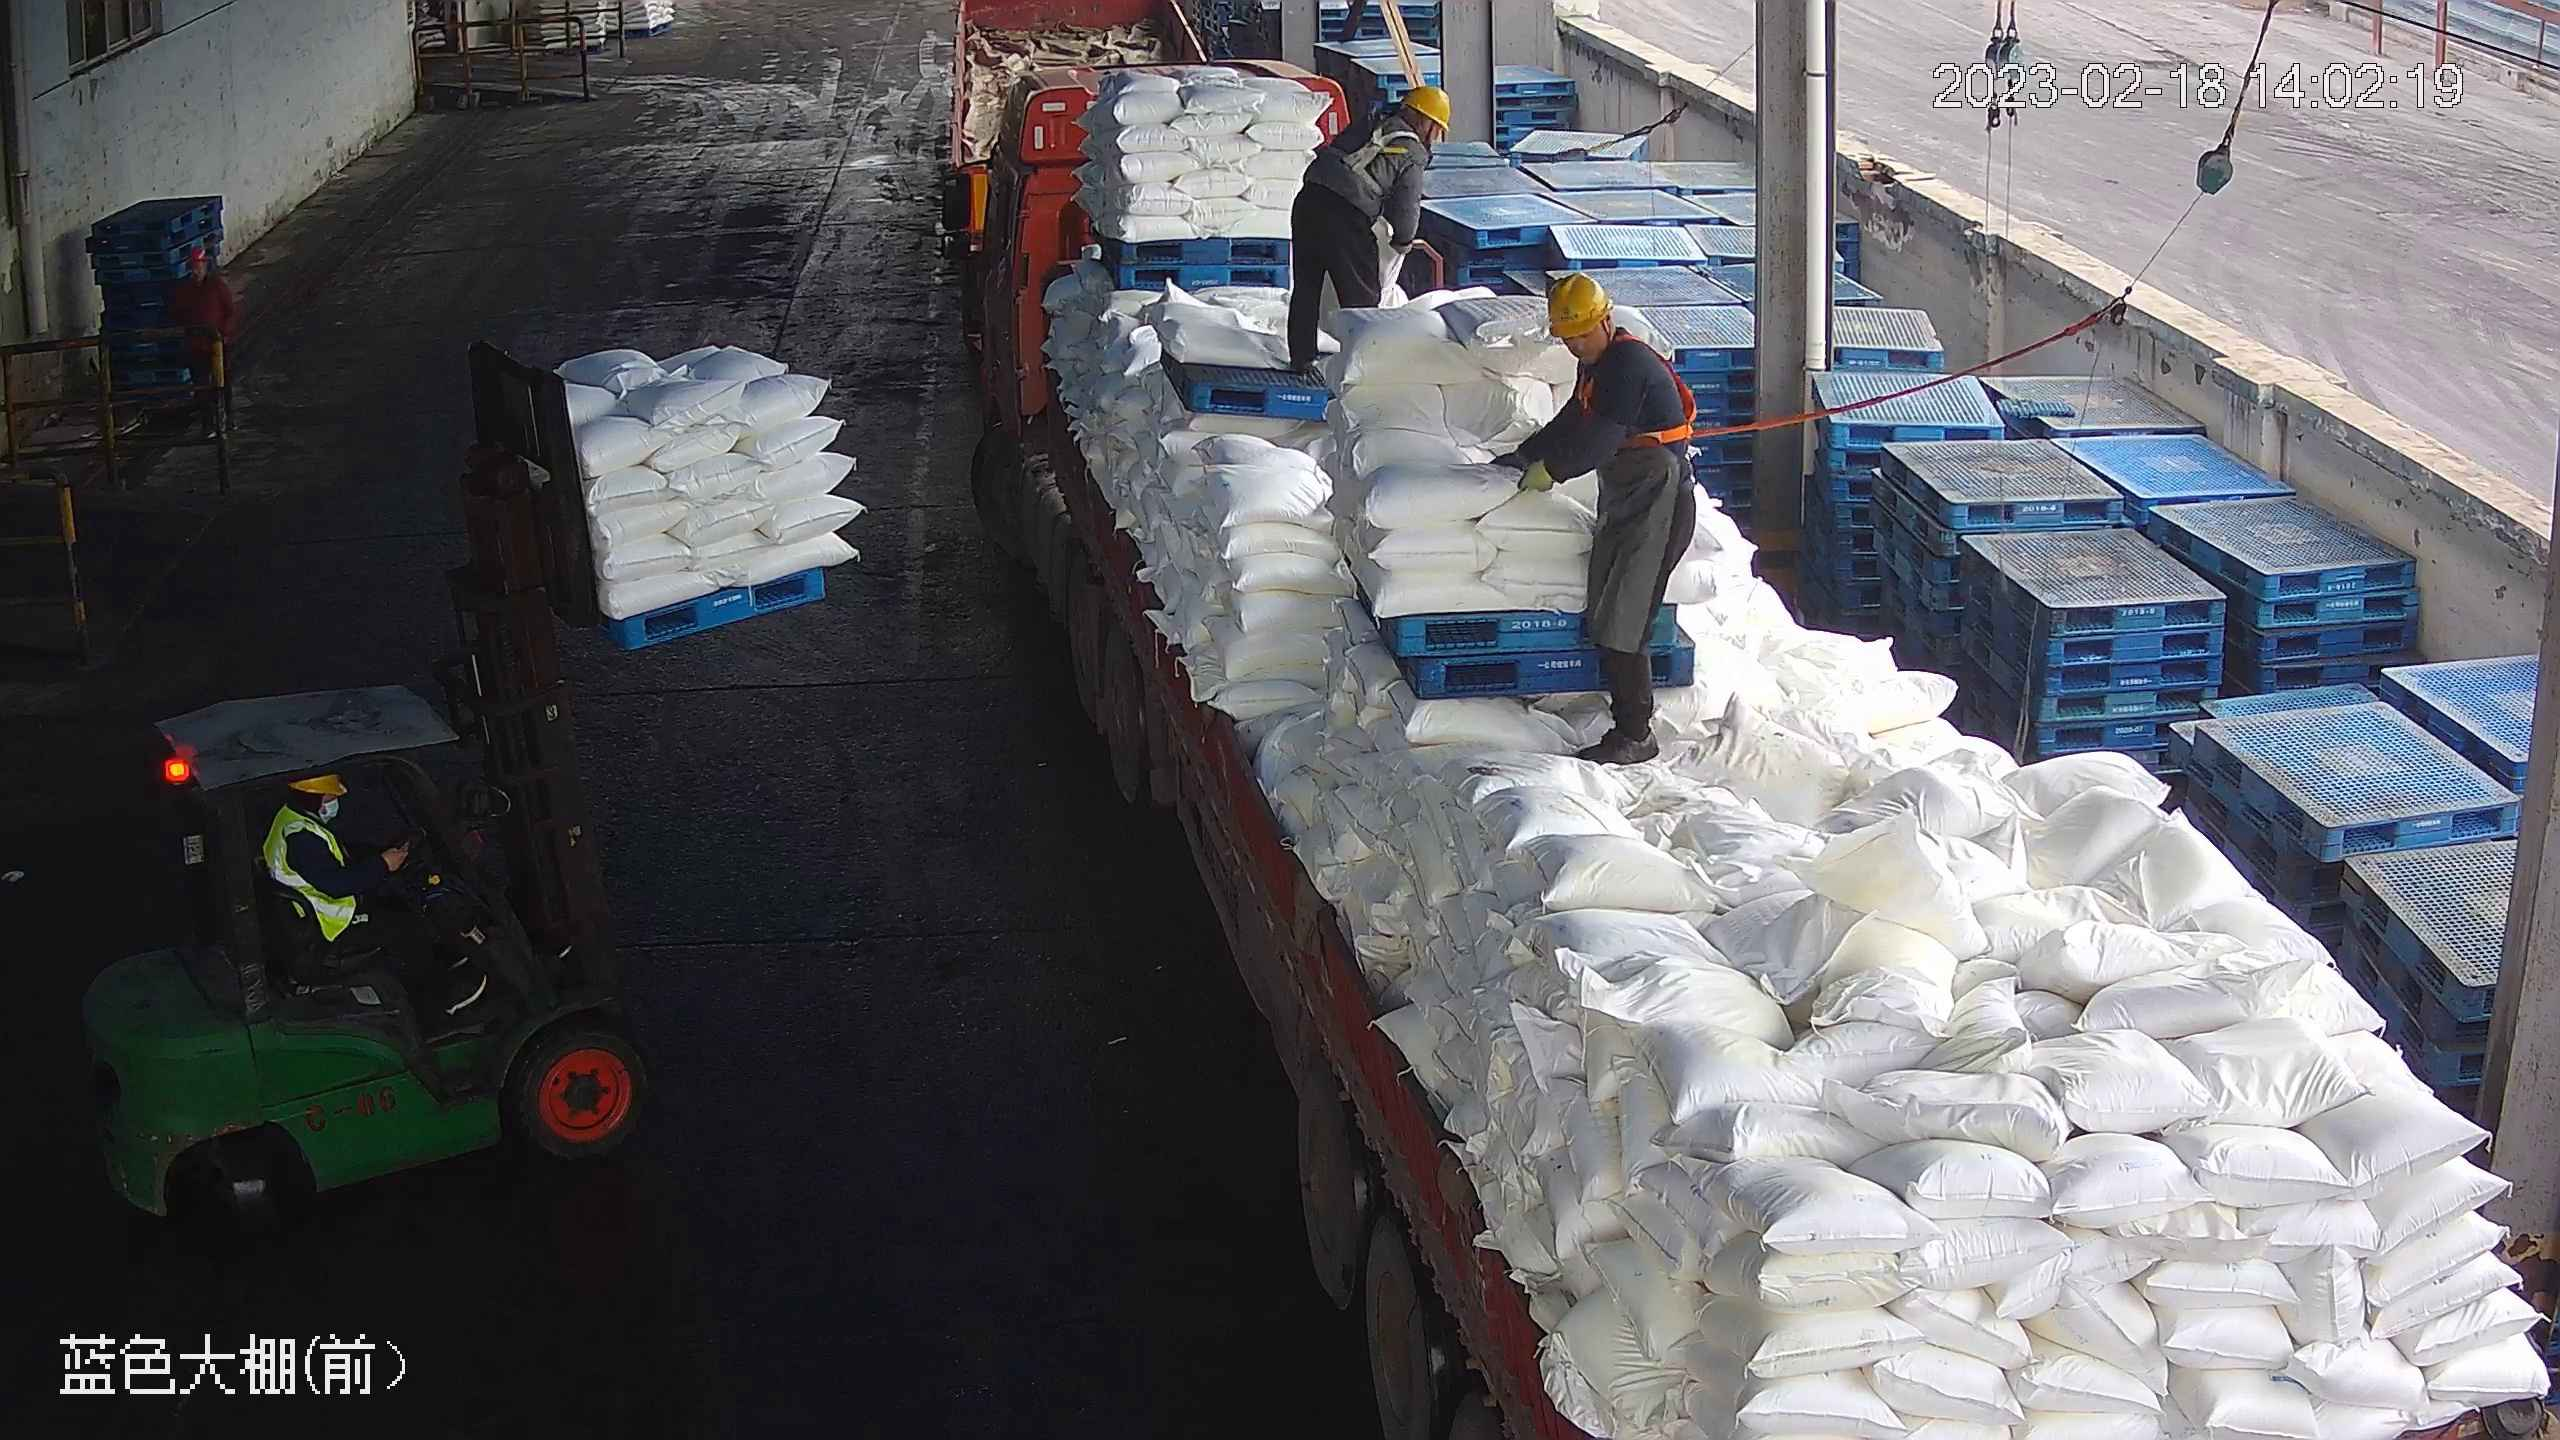belt: (1600, 338, 1710, 452), (1325, 120, 1406, 184)
head: (1542, 269, 1672, 404), (1338, 86, 1451, 168), (269, 770, 362, 866)
helmet: (1543, 270, 1613, 340), (1398, 83, 1454, 136)
people: (1487, 269, 1701, 768), (1285, 87, 1452, 372), (264, 765, 418, 986)
truck: (970, 139, 2555, 1438)
